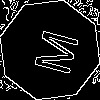M: (25, 25, 79, 78)
